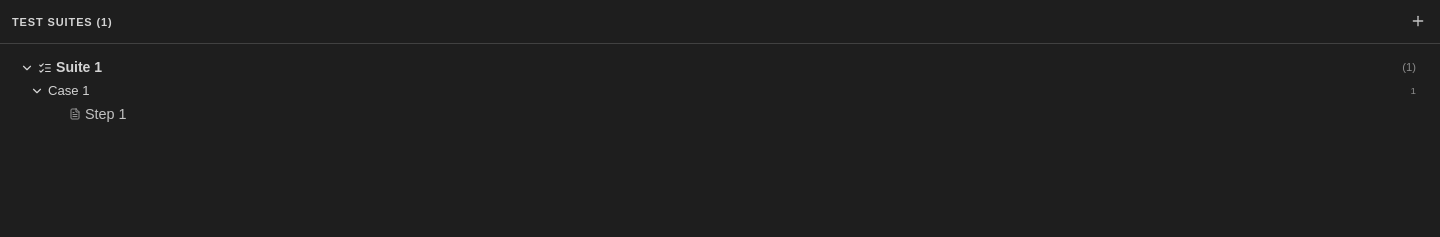
Scenario: TestsUi right-click import/export menu › partial handlers render only the items they back (no empty section)
Right-click the text "Suite 1" at (79, 67), box [56,59,102,75]
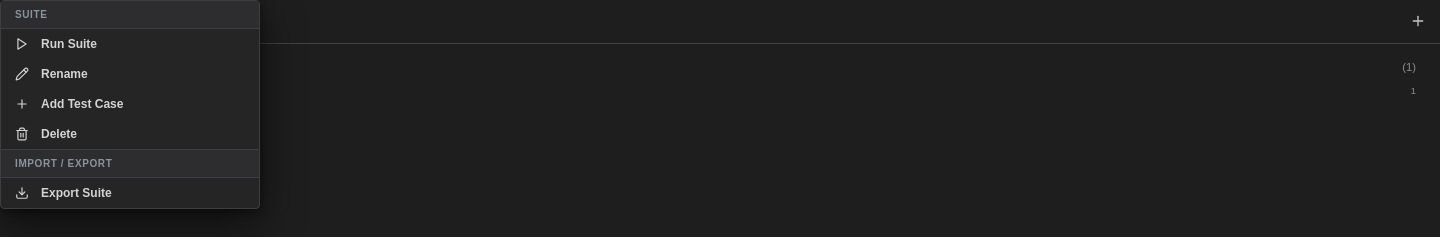
Result: the text "Import / Export" is shown at [1,150,259,178]
Result: the text "Export Suite" is shown at [41,186,112,200]
